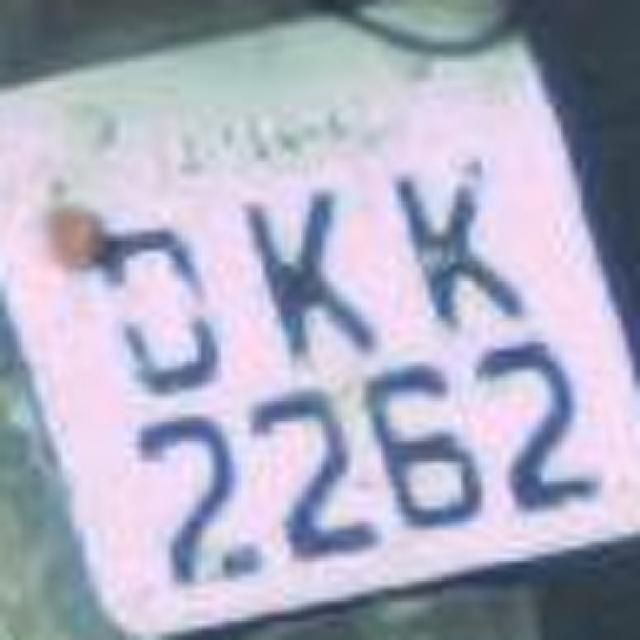2: (112, 396, 276, 604), (448, 324, 612, 511), (256, 372, 389, 568)
6: (352, 336, 488, 544)
C: (68, 212, 220, 400)
K: (240, 172, 380, 376)
